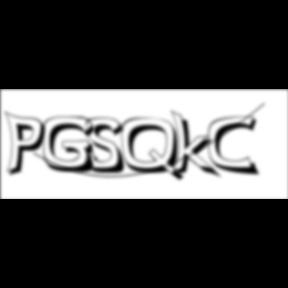C: (208, 115, 262, 178)
G: (42, 116, 102, 176)
P: (4, 110, 52, 180)
Q: (121, 117, 187, 184)
S: (86, 117, 132, 176)
k: (170, 108, 224, 181)
